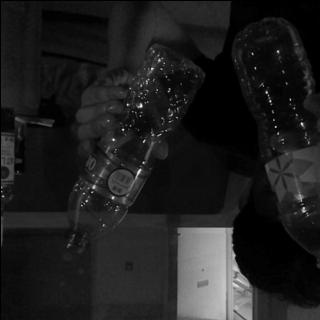plastic_bottles: (59, 40, 204, 258), (229, 20, 320, 238)
